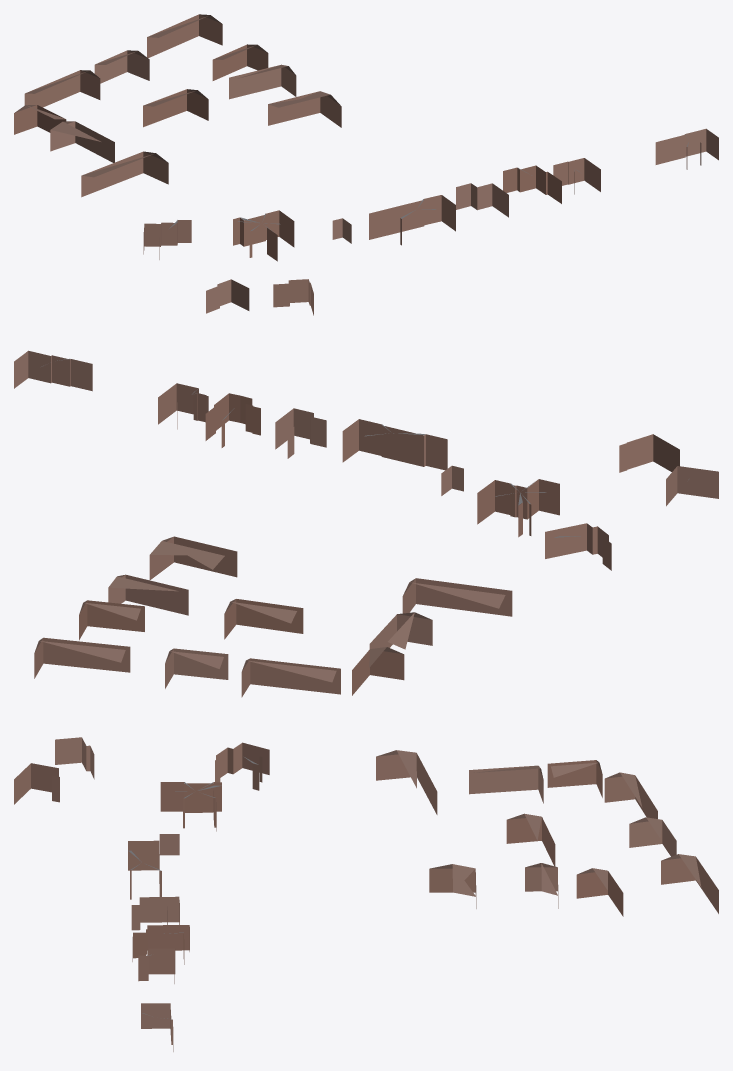
The model's file is c_1647_17835_buildings_residential.glb.
3 views of the same model, one above another, from view 1: azimuth 30°, elevation 25°; view 2: azimuth 150°, elevation 25°; view 3: azimuth 270°, elevation 25° (orthographic). The views are drawn at different scales.
Parts seen in each view (by area): view 1: geometry_0; view 2: geometry_0; view 3: geometry_0.
Part boxes in pixels (x1,y1,x2,y2): geometry_0: (14, 14, 718, 315); geometry_0: (14, 350, 718, 697); geometry_0: (14, 737, 718, 1051).
Size of the model in its own units: 235 by 11.08 by 238.
